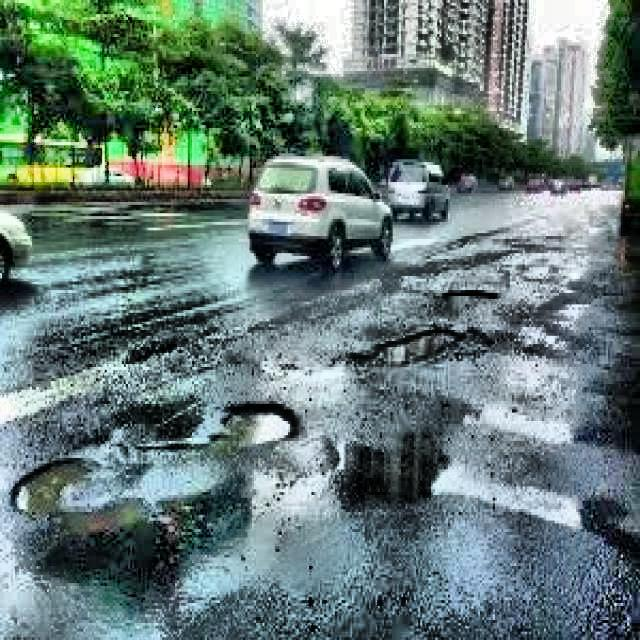buraco: (4, 446, 158, 546), (192, 395, 310, 455), (356, 313, 467, 364), (442, 282, 497, 308)
